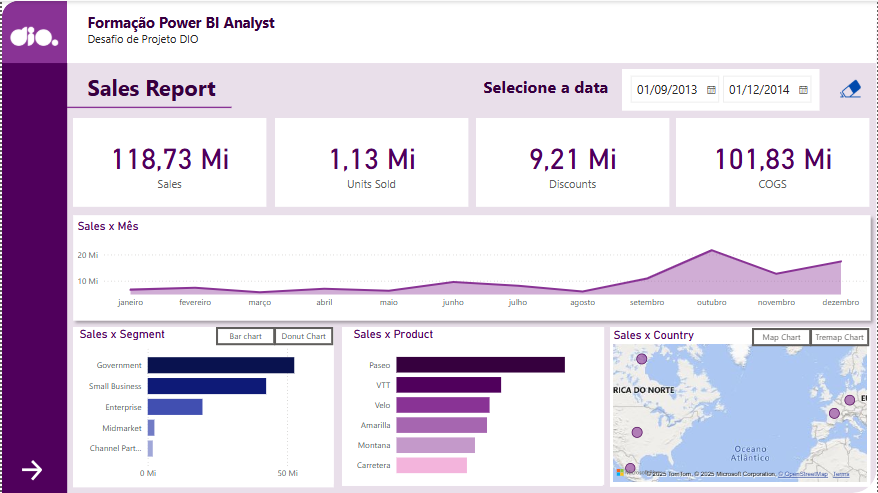

Layout of this report page (visuals, bound fields, positions):
{"tool":"powerbi","page":{"name":"Sales","canvas":[1280,720],"ordinal":0},"visuals":[{"type":"shape","box":[0,0,1280,720],"z":0},{"type":"image","title":"Clean","box":[1215.6,108.8,53.3,40],"z":0,"group":"g1"},{"type":"card","fields":{"Values":["Sum(financials. Sales)"]},"box":[104.3,171,282.6,130.4],"z":0,"group":"g4"},{"type":"donutChart","title":"Sales x Segment ","fields":{"Y":["Sum(financials. Sales)"],"Category":["financials.Segment"]},"box":[109.3,476.8,376.7,230.2],"z":0,"group":"g3"},{"type":"map","title":"Sales x Country","fields":{"Category":["financials.Country"],"Size":["Sum(financials. Sales)"]},"box":[889.6,477.6,380.6,231.3],"z":0,"group":"g2"},{"type":"shape","box":[0,0,96,720],"z":1000},{"type":"textbox","box":[700.1,104.4,207.7,49.2],"z":1000,"group":"g1"},{"type":"card","fields":{"Values":["Sum(financials.Units Sold)"]},"box":[400,171,282.6,130.4],"z":1000,"group":"g4"},{"type":"treemap","title":"Sales x Country ","fields":{"Group":["financials.Country"],"Values":["Sum(financials. Sales)"]},"box":[890.7,476.7,379.1,230.2],"z":1000,"group":"g2"},{"type":"shape","box":[0,0,95.7,91.3],"z":2000},{"type":"actionButton","box":[1216.3,109.3,62.8,39.5],"z":2000,"group":"g1"},{"type":"card","fields":{"Values":["Sum(financials.Discounts)"]},"box":[694.2,171,282.6,130.4],"z":2000,"group":"g4"},{"type":"actionButton","title":"Donut Chart","box":[398.3,476.7,86.7,26.7],"z":2000,"group":"g3"},{"type":"actionButton","title":"Maps","box":[1096.7,478.3,86.7,26.7],"z":2000,"group":"g2"},{"type":"image","box":[8,12,80,80],"z":3000},{"type":"card","fields":{"Values":["Sum(financials.COGS)"]},"box":[986.9,171,282.6,130.4],"z":3000,"group":"g4"},{"type":"actionButton","title":"Bar Chart","box":[313.3,476.7,86.7,26.7],"z":3000,"group":"g3"},{"type":"actionButton","title":"Tremap","box":[1181.7,478.3,86.7,26.7],"z":3000,"group":"g2"},{"type":"shape","box":[95.7,0,1184.1,91.3],"z":4000},{"type":"textbox","box":[120,11.7,341,65.9],"z":5000},{"type":"shape","box":[94.4,138.9,240.7,33.3],"z":6000,"group":"g5"},{"type":"shape","box":[95.8,304.2,1184.7,172.2],"z":6000},{"type":"textbox","box":[119.4,100,280.6,55.6],"z":7000,"group":"g5"},{"type":"shape","box":[104.1,477.6,381.6,234.7],"z":7000},{"type":"shape","box":[498,477.6,381.6,232.7],"z":8000},{"type":"shape","box":[889.4,476.6,380.9,234],"z":9000},{"type":"areaChart","title":"Sales x Mês","fields":{"Category":["financials.Date.Variation.Hierarquia de datas.Mês"],"Y":["Sum(financials. Sales)"]},"box":[104.7,318.6,1165.1,139.5],"z":10000},{"type":"clusteredBarChart","title":"Sales x Product","fields":{"Y":["Sum(financials. Sales)"],"Category":["financials.Product"]},"box":[509,477.6,371.6,231.3],"z":11000},{"type":"slicer","fields":{"Values":["financials.Date"]},"box":[907.4,100,289.3,61.5],"z":12000},{"type":"group","id":"g1","title":"Filtro por Data","box":[700.1,104.4,579,49.2],"z":13000},{"type":"group","id":"g2","title":"Sales x Country","box":[889.6,476.7,380.6,232.2],"z":14000},{"type":"group","id":"g3","title":"Sales x Segment","box":[108.8,476.7,377.2,232.2],"z":15000},{"type":"actionButton","box":[23.5,666.7,64.7,39.2],"z":16000},{"type":"group","id":"g4","title":"Cartões","box":[104.3,171,1165.2,130.4],"z":17000},{"type":"group","id":"g5","title":"Grupo 1","box":[94.4,100,305.6,72.2],"z":18000}]}

Visuals, with their boxes on the page's 1280x720 design canvas (x1, y1, x2, y2). These are canvas units, not pixel positions in the 878x493 screenshot, which may show the page scaled, cropped or inside an application window:
shape: locate(0, 0, 1280, 720)
"Clean" image: locate(1216, 109, 1269, 149)
card - Sum(financials. Sales): locate(104, 171, 387, 301)
"Sales x Segment " donutChart: locate(109, 477, 486, 707)
"Sales x Country" map: locate(890, 478, 1270, 709)
shape: locate(0, 0, 96, 720)
textbox: locate(700, 104, 908, 154)
card - Sum(financials.Units Sold): locate(400, 171, 683, 301)
"Sales x Country " treemap: locate(891, 477, 1270, 707)
shape: locate(0, 0, 96, 91)
actionButton: locate(1216, 109, 1279, 149)
card - Sum(financials.Discounts): locate(694, 171, 977, 301)
"Donut Chart" actionButton: locate(398, 477, 485, 503)
"Maps" actionButton: locate(1097, 478, 1183, 505)
image: locate(8, 12, 88, 92)
card - Sum(financials.COGS): locate(987, 171, 1270, 301)
"Bar Chart" actionButton: locate(313, 477, 400, 503)
"Tremap" actionButton: locate(1182, 478, 1268, 505)
shape: locate(96, 0, 1280, 91)
textbox: locate(120, 12, 461, 78)
shape: locate(94, 139, 335, 172)
shape: locate(96, 304, 1280, 476)
textbox: locate(119, 100, 400, 156)
shape: locate(104, 478, 486, 712)
shape: locate(498, 478, 880, 710)
shape: locate(889, 477, 1270, 711)
"Sales x Mês" areaChart: locate(105, 319, 1270, 458)
"Sales x Product" clusteredBarChart: locate(509, 478, 881, 709)
slicer - financials.Date: locate(907, 100, 1197, 162)
"Filtro por Data" group: locate(700, 104, 1279, 154)
"Sales x Country" group: locate(890, 477, 1270, 709)
"Sales x Segment" group: locate(109, 477, 486, 709)
actionButton: locate(24, 667, 88, 706)
"Cartões" group: locate(104, 171, 1270, 301)
"Grupo 1" group: locate(94, 100, 400, 172)
